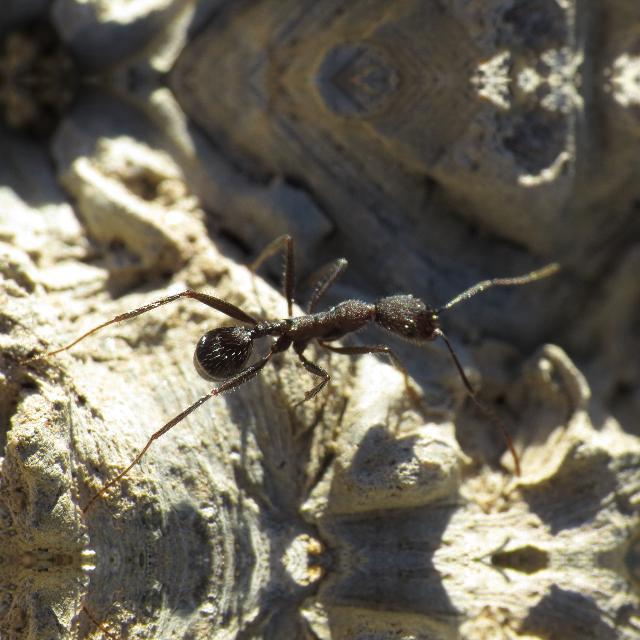Apheanogaster: (162, 254, 486, 412)
